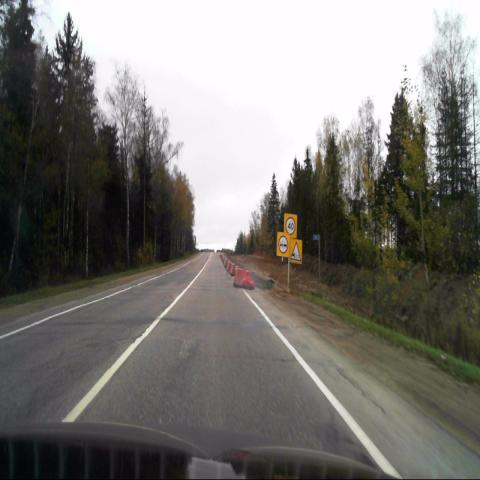1_18: (290, 239, 302, 263)
